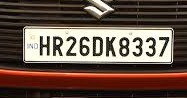numberplate: (22, 25, 174, 64)
